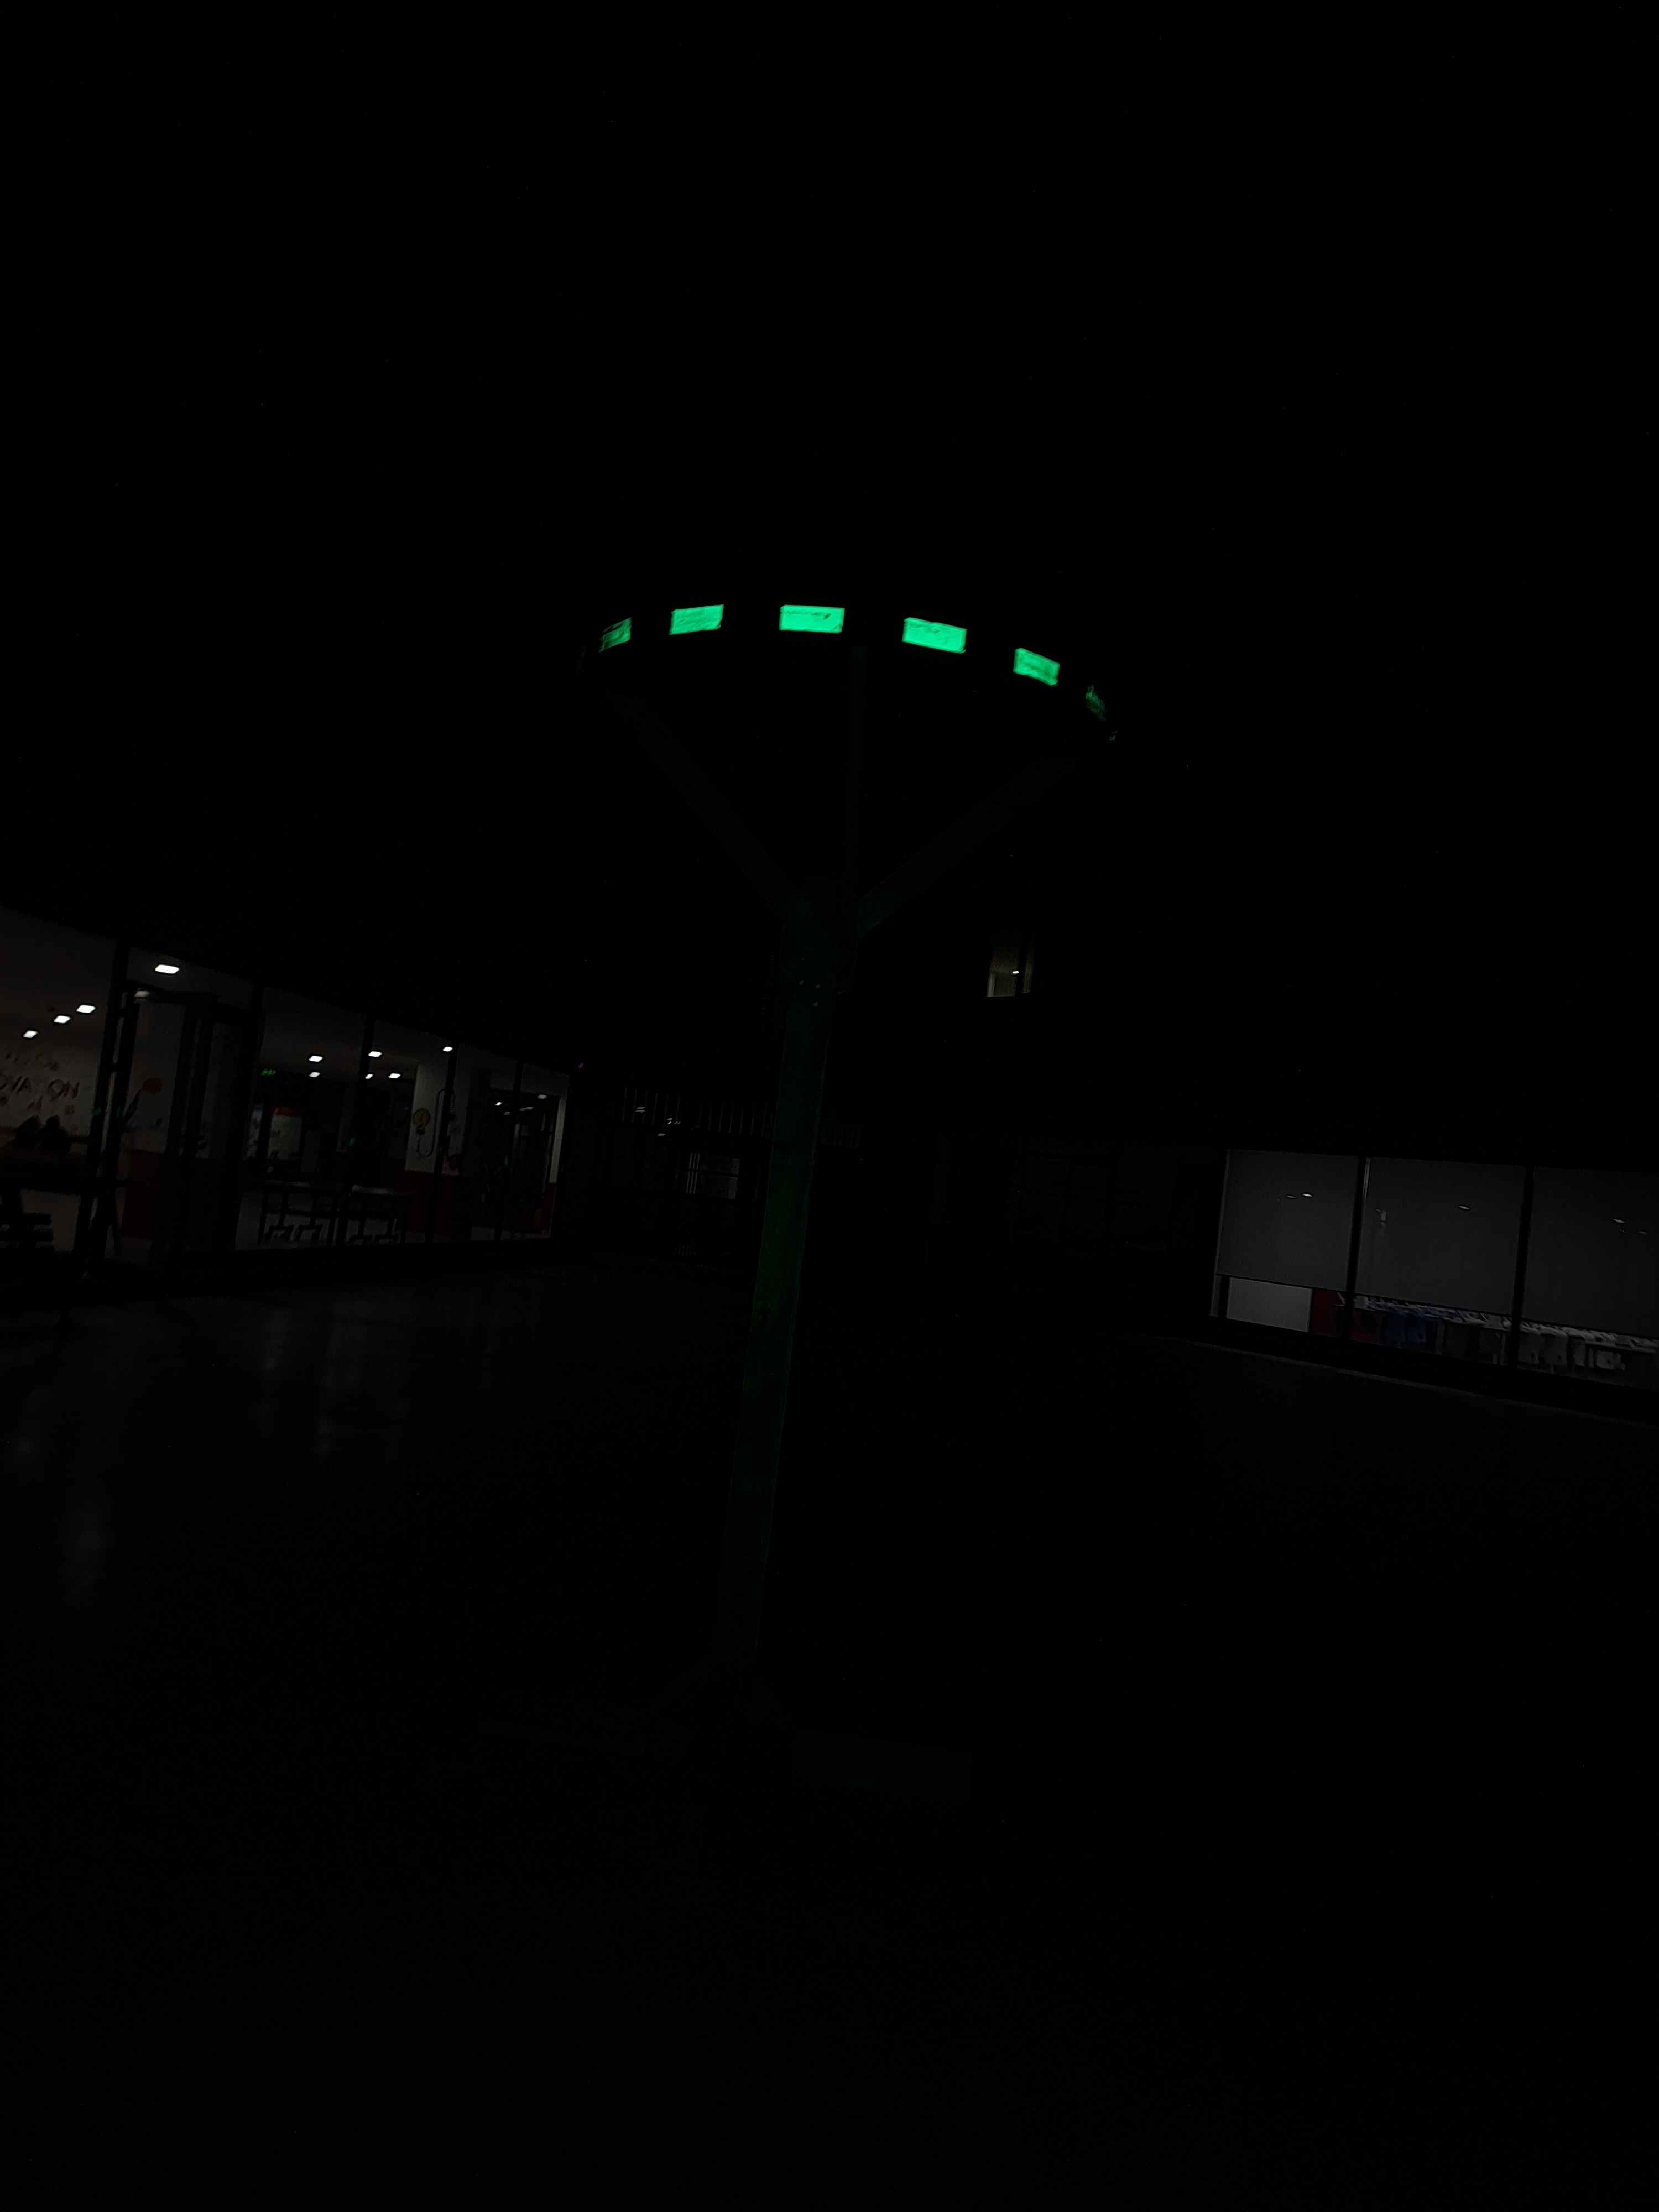hoop: (592, 575, 1066, 725)
